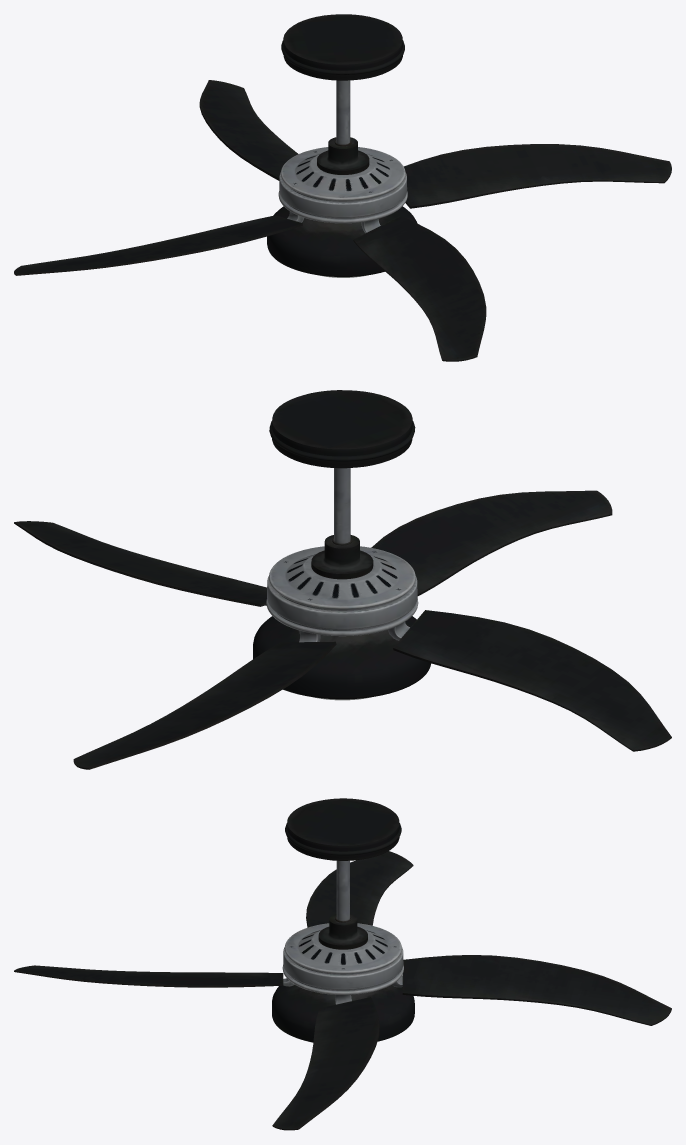
Rendered from ceiling_fan.glb.
The picture shows the model from 3 angles, top to bottom: view 1: azimuth 30°, elevation 25°; view 2: azimuth 150°, elevation 25°; view 3: azimuth 270°, elevation 25°; orthographic projection. The views are drawn at different scales.
Visible parts, largest first — view 1: ceiling_fan; view 2: ceiling_fan; view 3: ceiling_fan.
Boxes of the visible parts, box(x1,y1,x2,y2) form: ceiling_fan: box(14, 14, 671, 361); ceiling_fan: box(14, 390, 671, 769); ceiling_fan: box(14, 798, 671, 1130).
Size of the model in its own units: 1.46 by 0.5163 by 1.46.
1 material, 1 textured.
